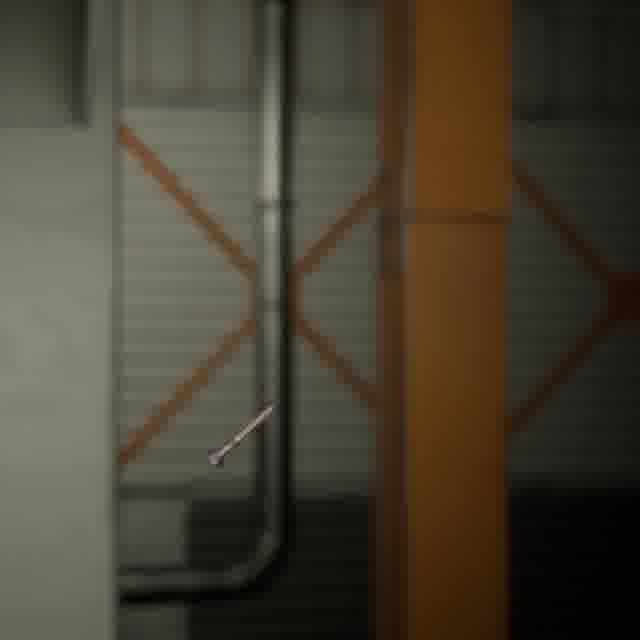bolt: (201, 398, 280, 472)
